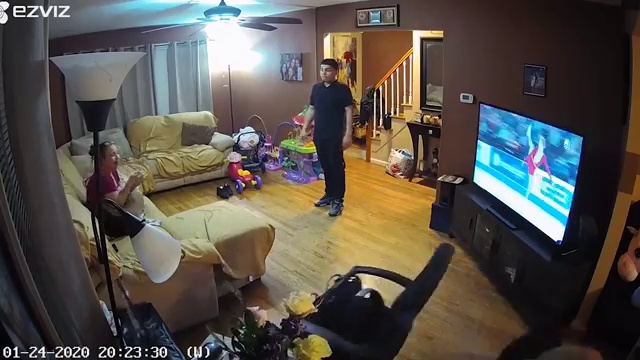face: (103, 145, 120, 166), (319, 64, 335, 82)
